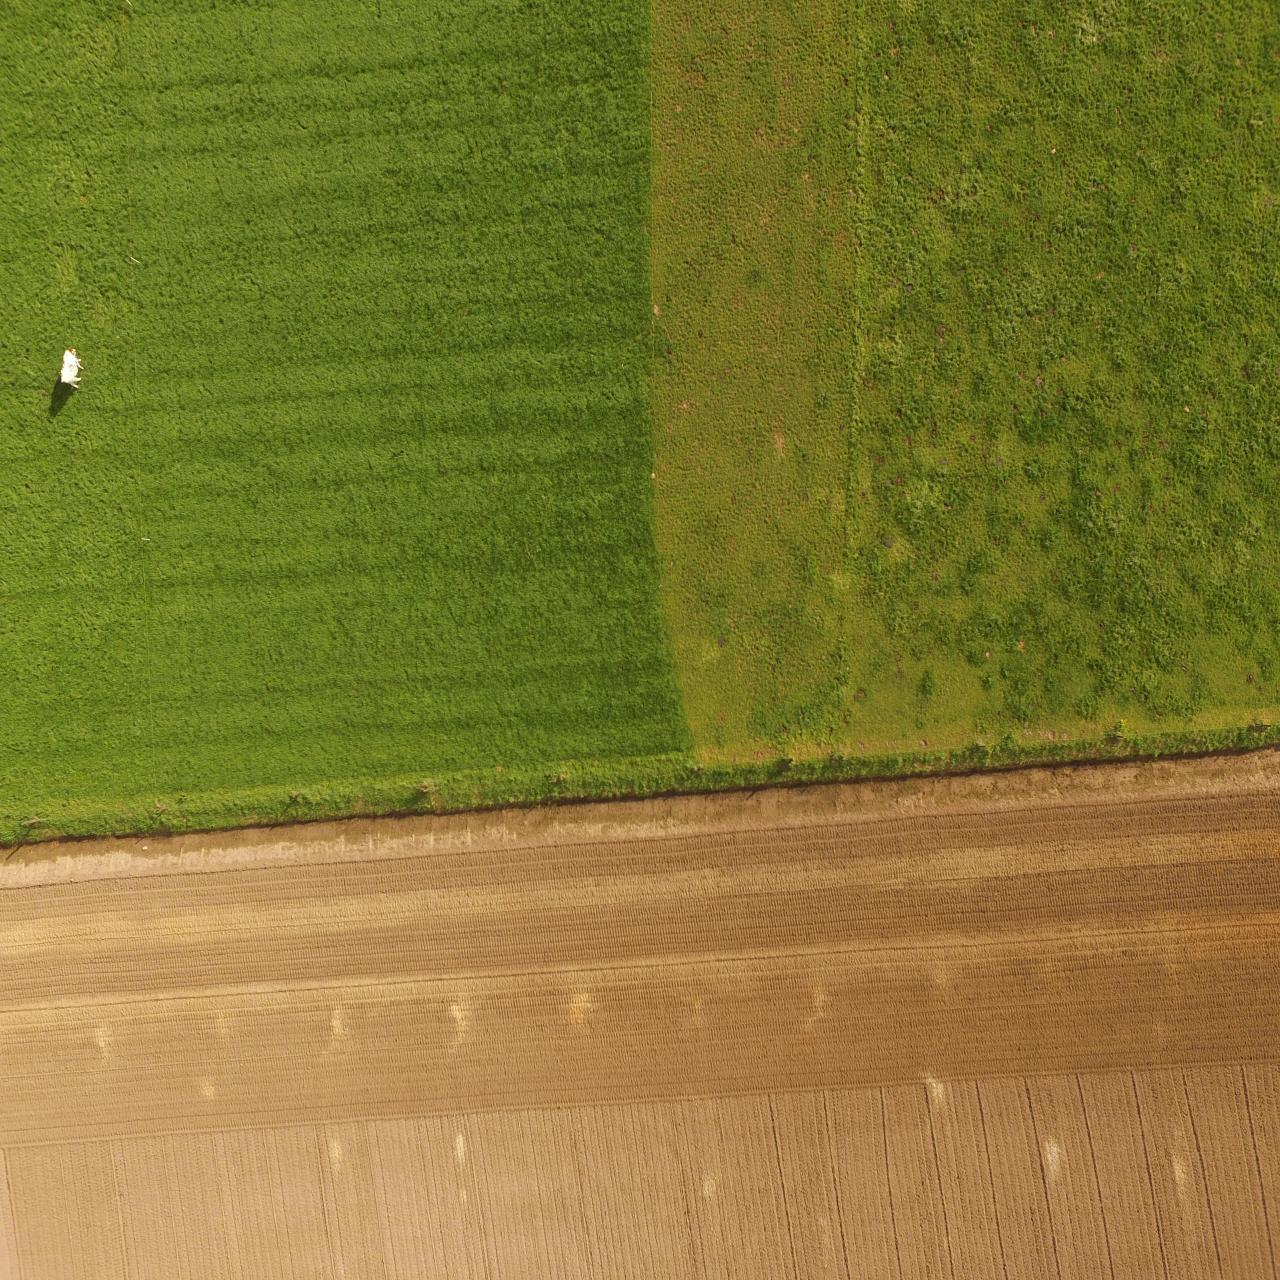cow: (55, 342, 86, 393)
